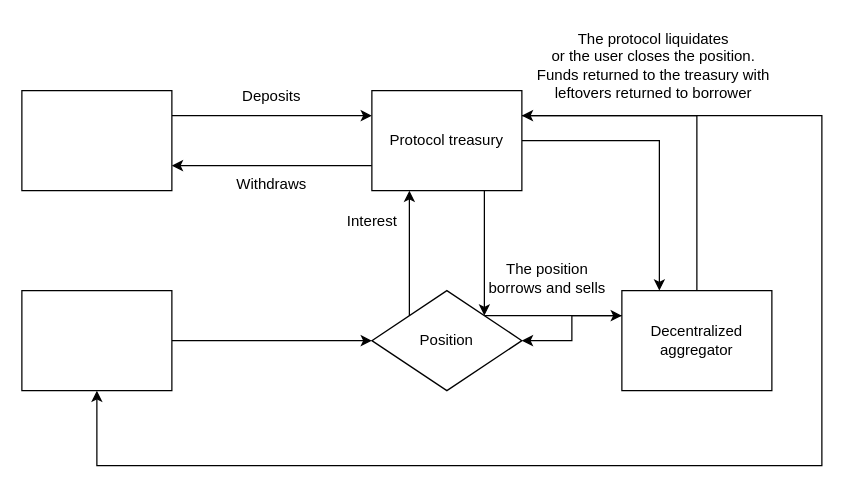
This 854x498 diagram has some shape labels left out. The shapes that lost their labels are listed below. From the top down, each one's box as (x1, y1, x2, y2) in pixels, then its label:
(21, 89, 172, 191): Lendee
(21, 289, 172, 391): Borrower
